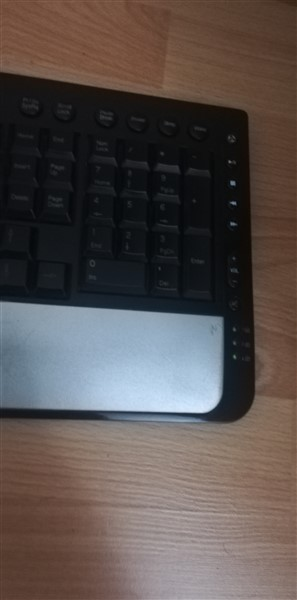klavye: (1, 69, 261, 424)
